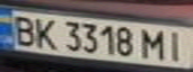1: (97, 22, 118, 56)
3: (57, 18, 84, 53), (78, 20, 100, 55)
8: (115, 24, 139, 57)
B: (6, 12, 39, 47)
I: (163, 28, 193, 62)
K: (30, 16, 57, 51)
M: (139, 26, 172, 61)
